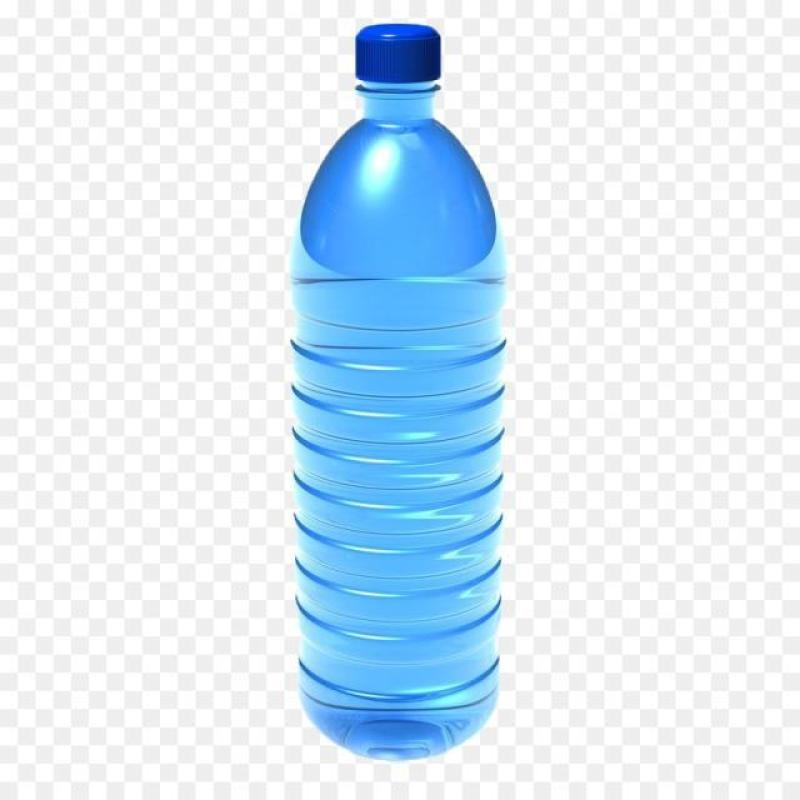botella: (289, 18, 509, 764)
